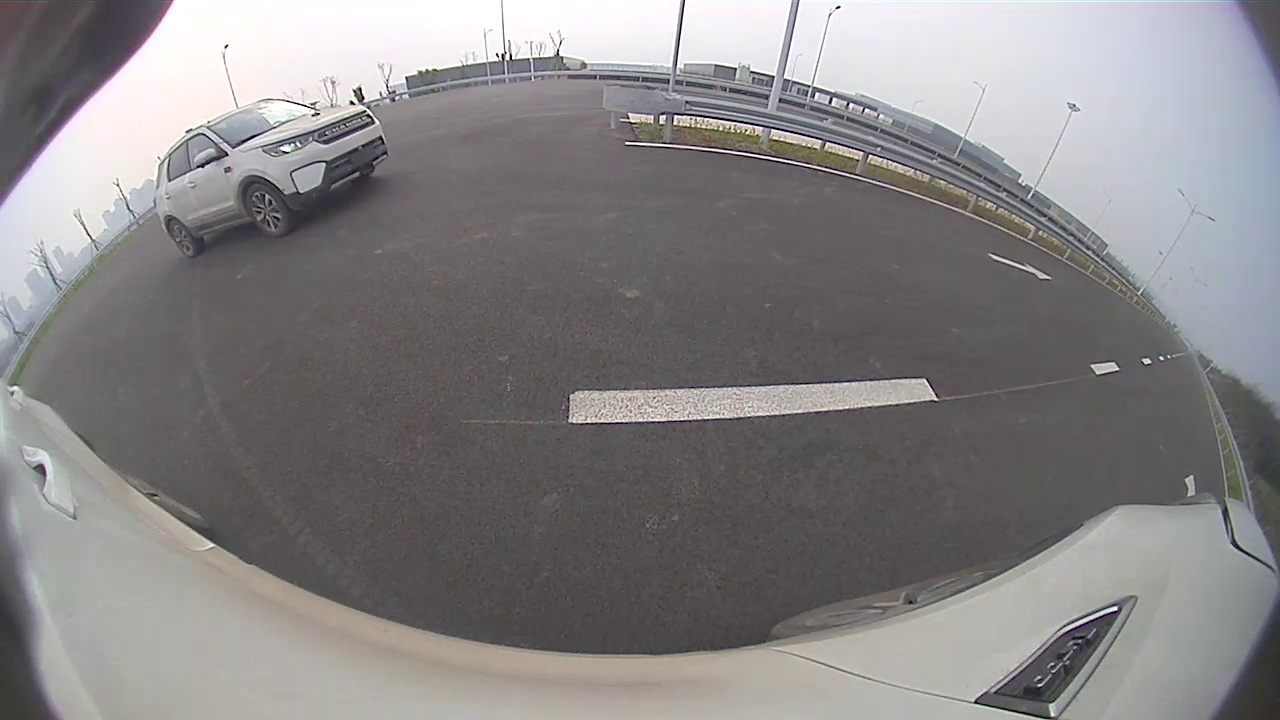car: (155, 98, 389, 259)
front: (244, 186, 289, 237)
rear: (167, 219, 198, 259)
